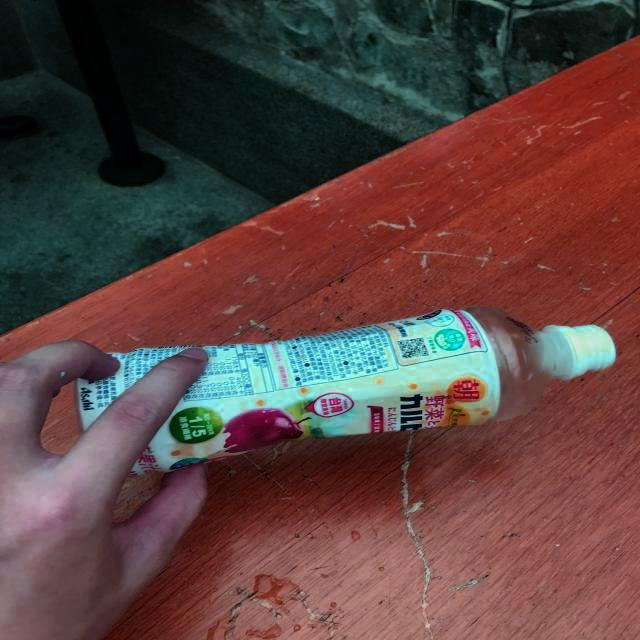bottle: (75, 306, 616, 478)
